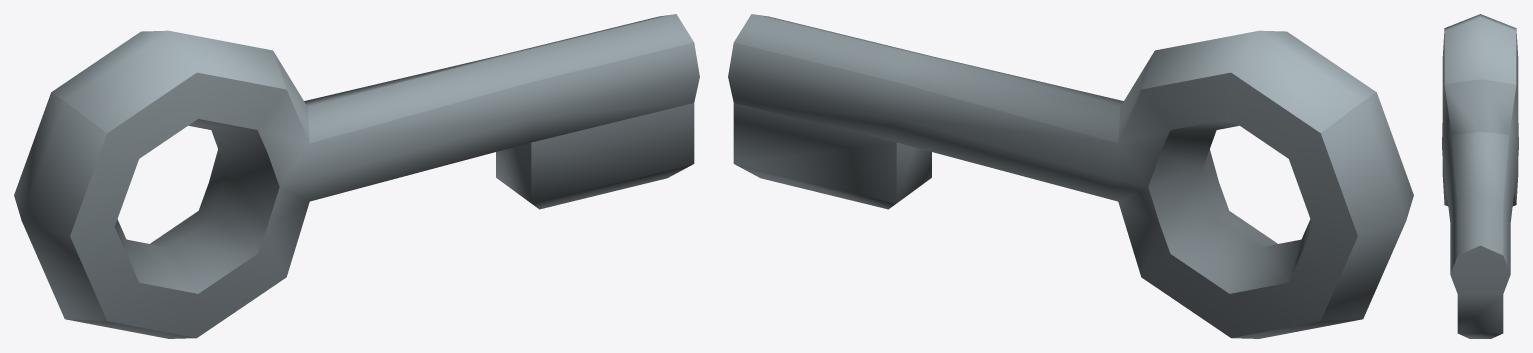
File: key.gltf
The picture shows the model from 3 angles, left to right: view 1: azimuth 30°, elevation 25°; view 2: azimuth 150°, elevation 25°; view 3: azimuth 270°, elevation 25°; orthographic projection. The views are drawn at different scales.
Visible parts, largest first — view 1: key; view 2: key; view 3: key.
Boxes of the visible parts, x1=… form: key: x1=14, y1=14, x2=699, y2=338; key: x1=728, y1=14, x2=1413, y2=338; key: x1=1442, y1=14, x2=1518, y2=338.
Size of the model in its own units: 0.8957 by 0.4029 by 0.1418.
Materials: 1 (1 with a texture image).
